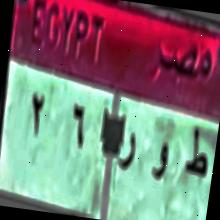2: (24, 88, 48, 145)
6: (66, 100, 91, 156)
Taa: (181, 118, 214, 190)
raa: (116, 127, 140, 179)
waw: (148, 136, 172, 188)
